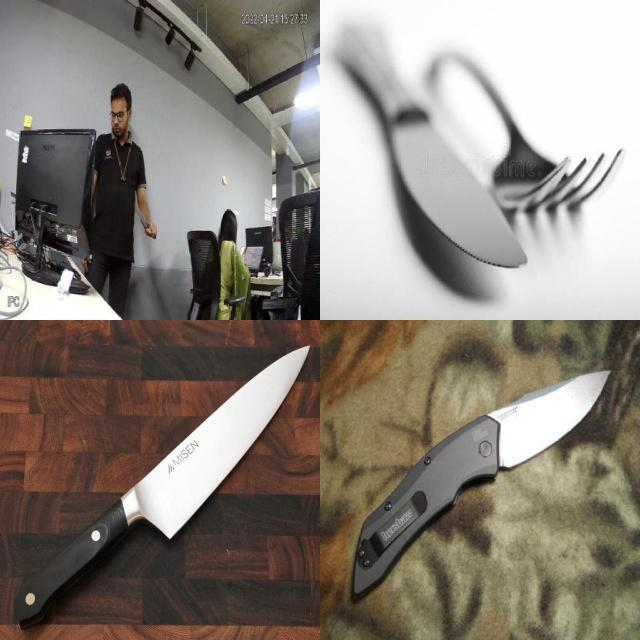-: (345, 32, 528, 294), (119, 339, 313, 544), (468, 362, 621, 475), (134, 202, 151, 230)
